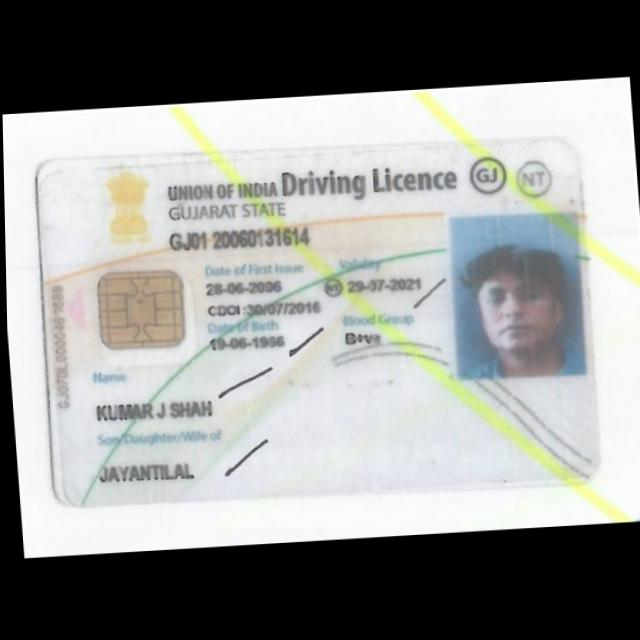driving_licence: (19, 122, 610, 521)
